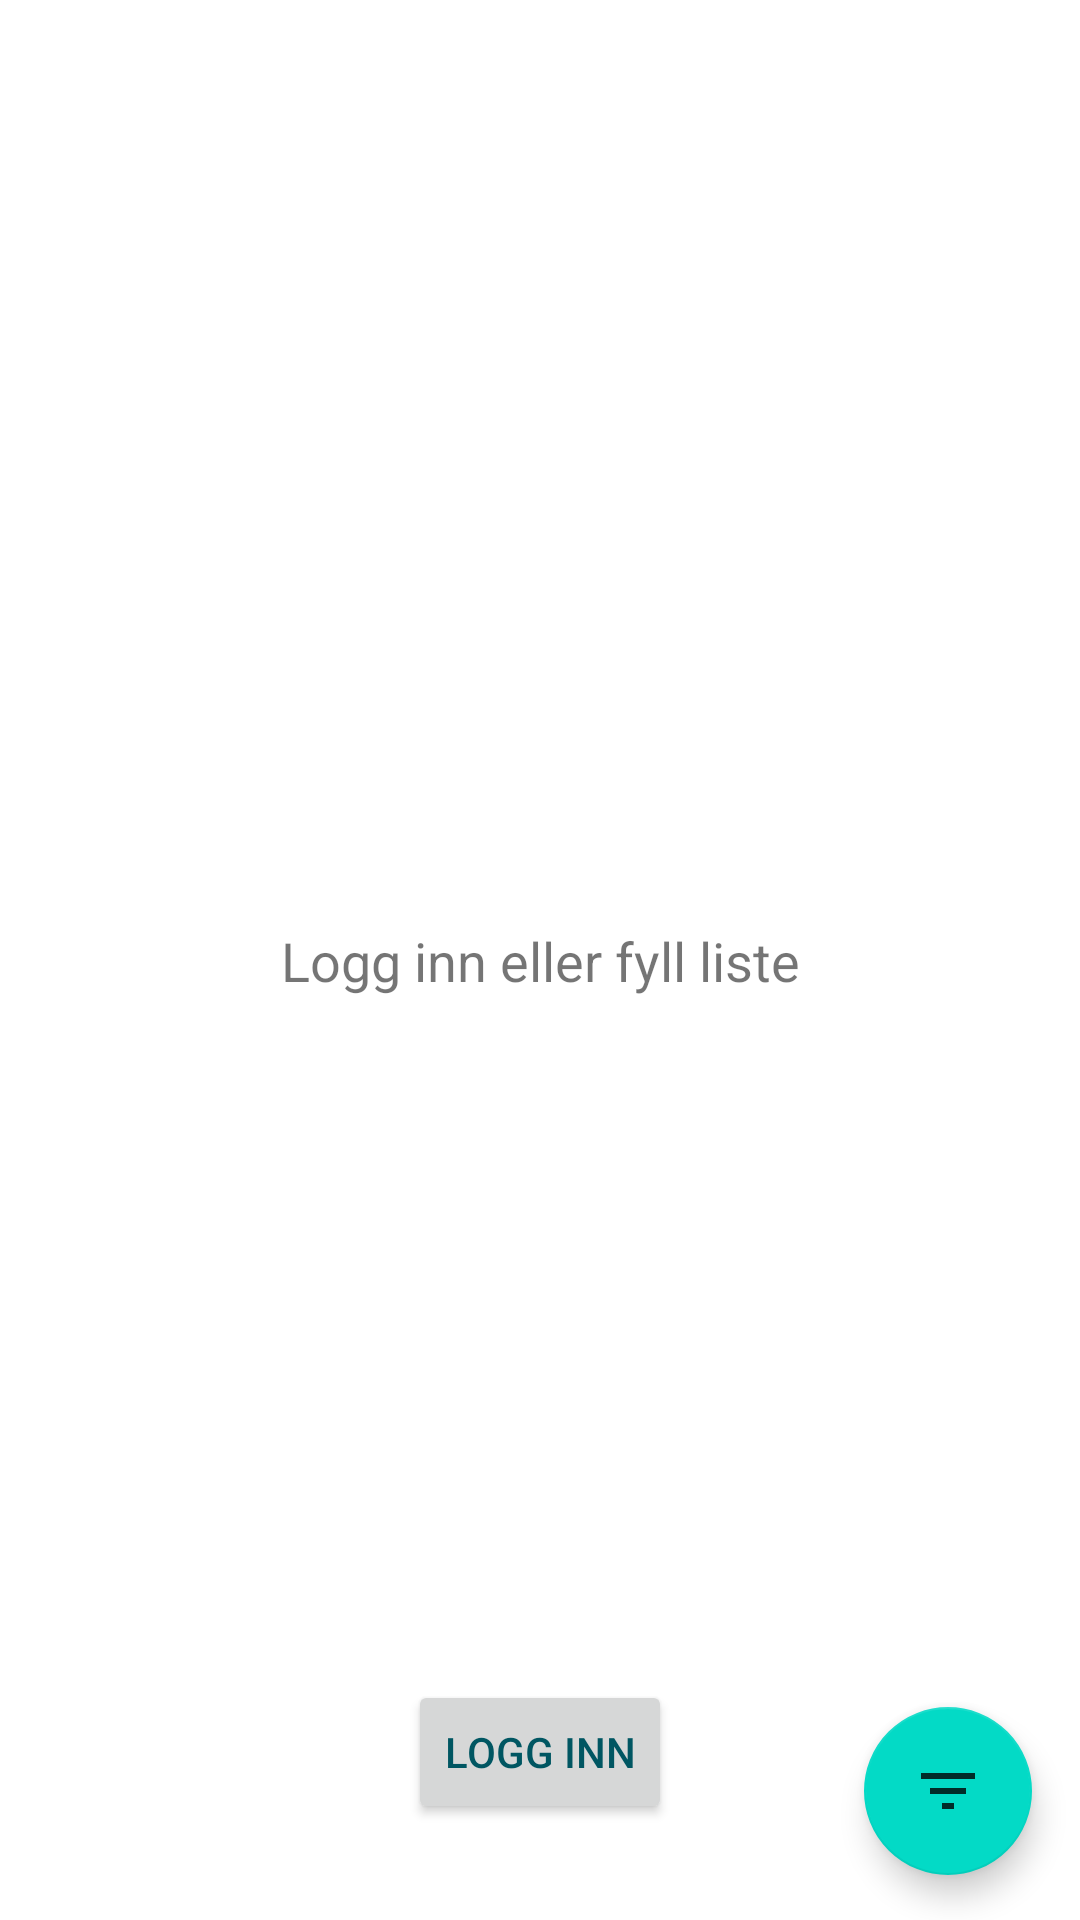

Locate icon controls on the screen. Image size 1080x1920, boxes as box=[x1, y1, x2, y2].
filter: box=[864, 1707, 1032, 1875]
